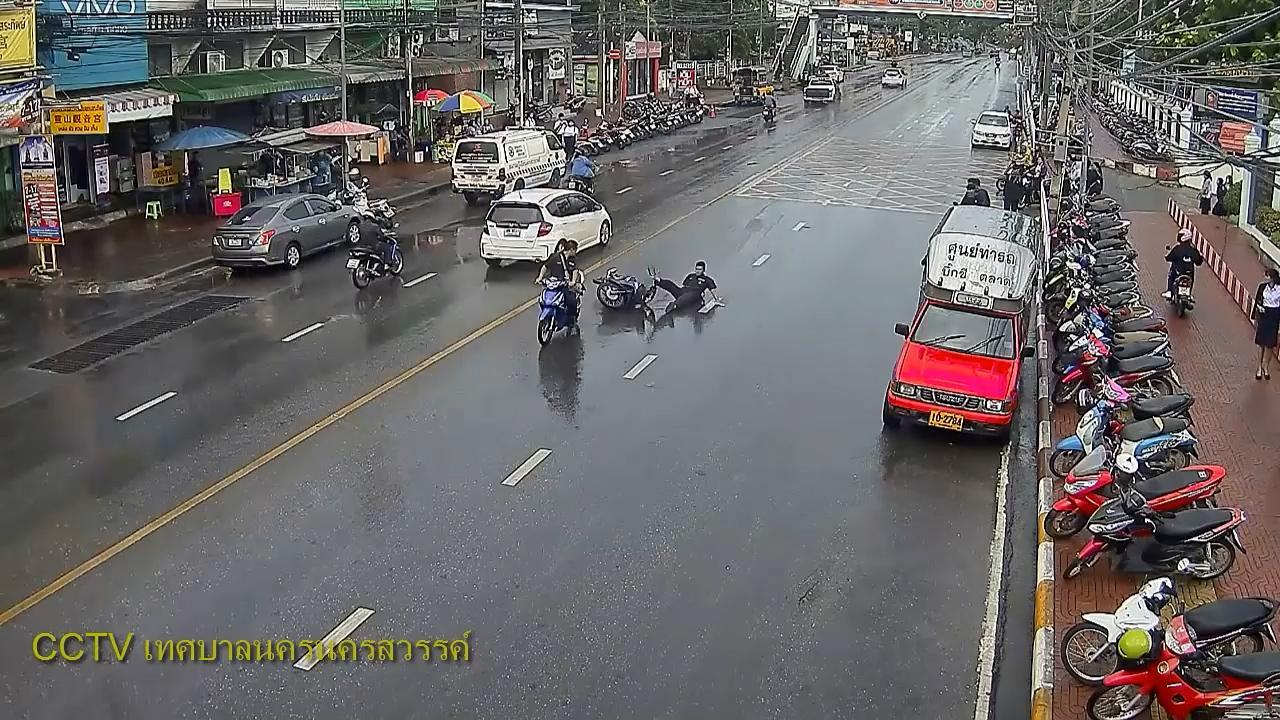accident: (650, 258, 724, 317)
